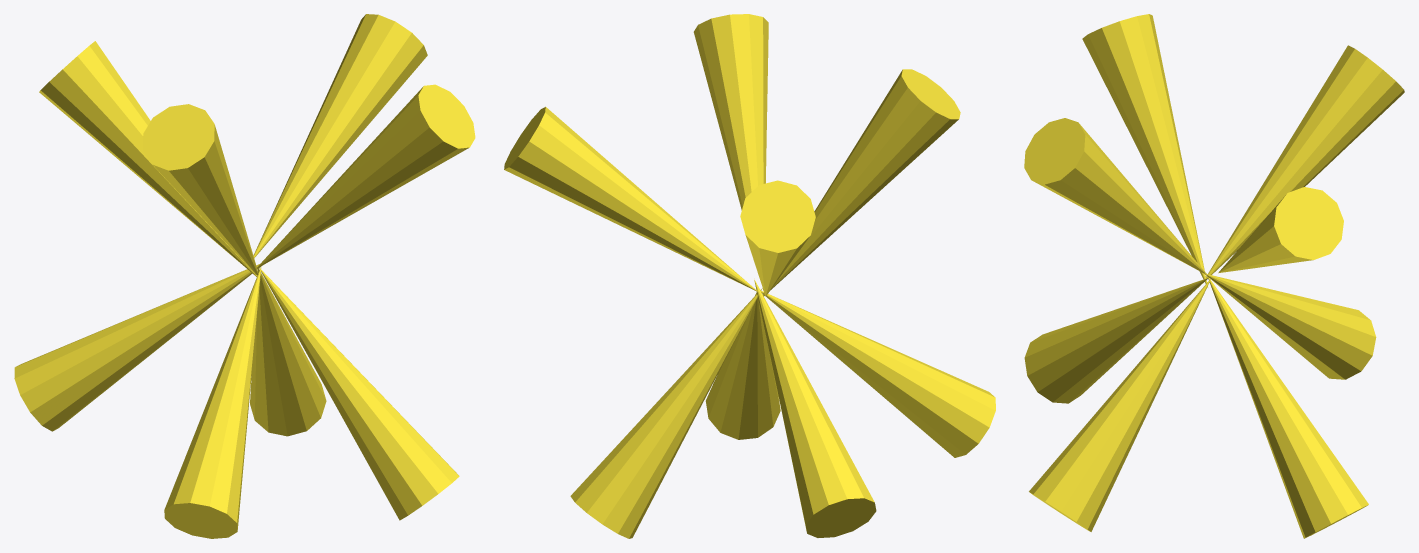
The model's file is Spark.obj.
3 renders of one model, left to right at view 1: azimuth 30°, elevation 25°; view 2: azimuth 150°, elevation 25°; view 3: azimuth 270°, elevation 25°, orthographic. The views are drawn at different scales.
Visible parts, largest first — view 1: group671534886, group1676567559, group624856587, group313673697, group2040924977, group1008342314, group1442607068, group1111673580; view 2: group1676567559, group1111673580, group624856587, group671534886, group1442607068, group2040924977, group313673697, group1008342314; view 3: group1442607068, group313673697, group1111673580, group1008342314, group2040924977, group671534886, group624856587, group1676567559.
Boxes of the visible parts, left/top/right/bottom form: group671534886: left=164, top=267, right=261, bottom=538; group1676567559: left=253, top=14, right=427, bottom=257; group624856587: left=14, top=264, right=261, bottom=431; group313673697: left=259, top=268, right=459, bottom=520; group2040924977: left=257, top=84, right=475, bottom=268; group1008342314: left=39, top=41, right=260, bottom=280; group1442607068: left=143, top=104, right=258, bottom=275; group1111673580: left=250, top=268, right=326, bottom=436; group1676567559: left=504, top=106, right=757, bottom=291; group1111673580: left=570, top=288, right=762, bottom=538; group624856587: left=754, top=279, right=876, bottom=537; group671534886: left=761, top=291, right=995, bottom=457; group1442607068: left=763, top=69, right=960, bottom=296; group2040924977: left=693, top=14, right=768, bottom=291; group313673697: left=705, top=292, right=780, bottom=439; group1008342314: left=740, top=180, right=815, bottom=295; group1442607068: left=1082, top=14, right=1208, bottom=287; group313673697: left=1029, top=279, right=1210, bottom=531; group1111673580: left=1207, top=276, right=1368, bottom=538; group1008342314: left=1201, top=45, right=1404, bottom=284; group2040924977: left=1024, top=118, right=1206, bottom=273; group671534886: left=1024, top=277, right=1208, bottom=403; group624856587: left=1204, top=273, right=1376, bottom=379; group1676567559: left=1218, top=187, right=1343, bottom=273.
Size of the model in its own units: 0.2318 by 0.2544 by 0.2039.
